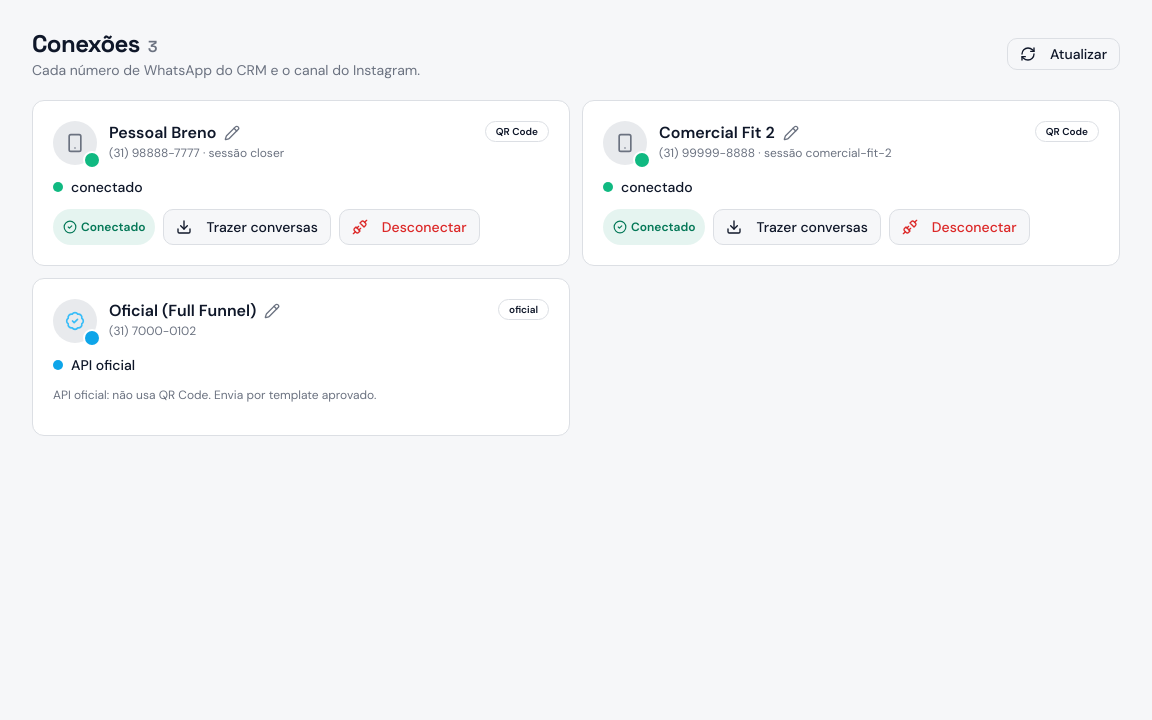
Test: tela Conexões: Desconectar › cancelar não chama nada
Click the button "Desconectar" below "(31) 99999-8888" at (959, 227), box [889,209,1030,245]
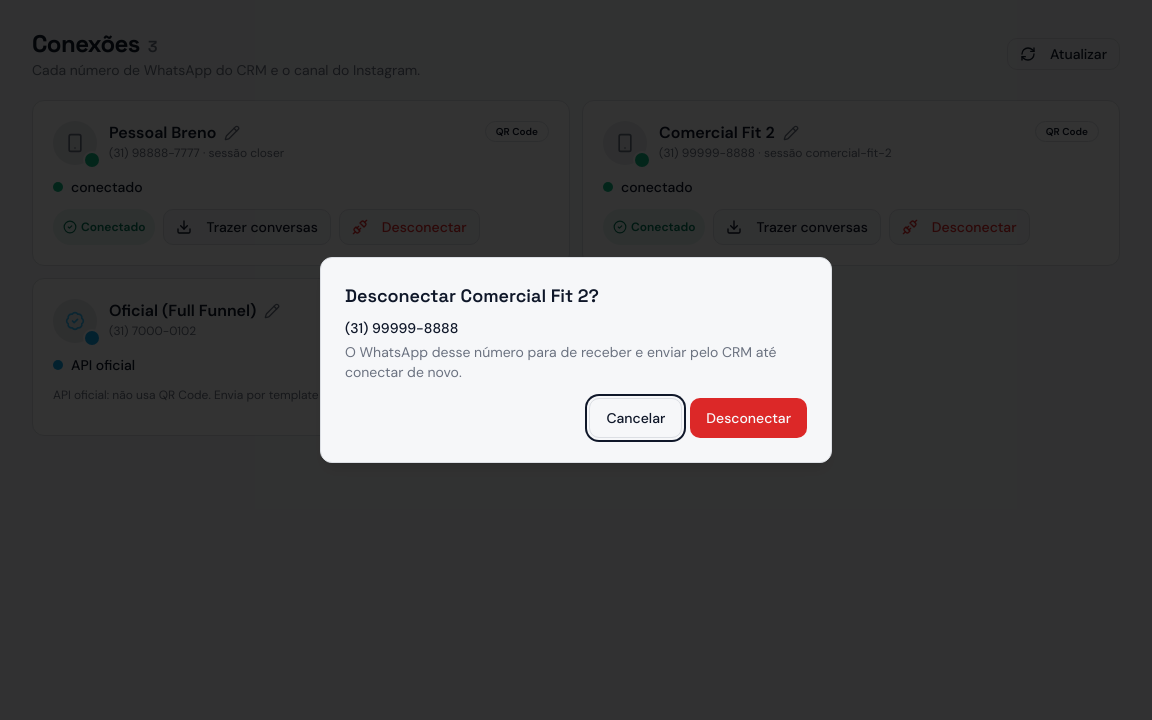
Click the button "Cancelar" at (636, 418), box [589,398,682,438]
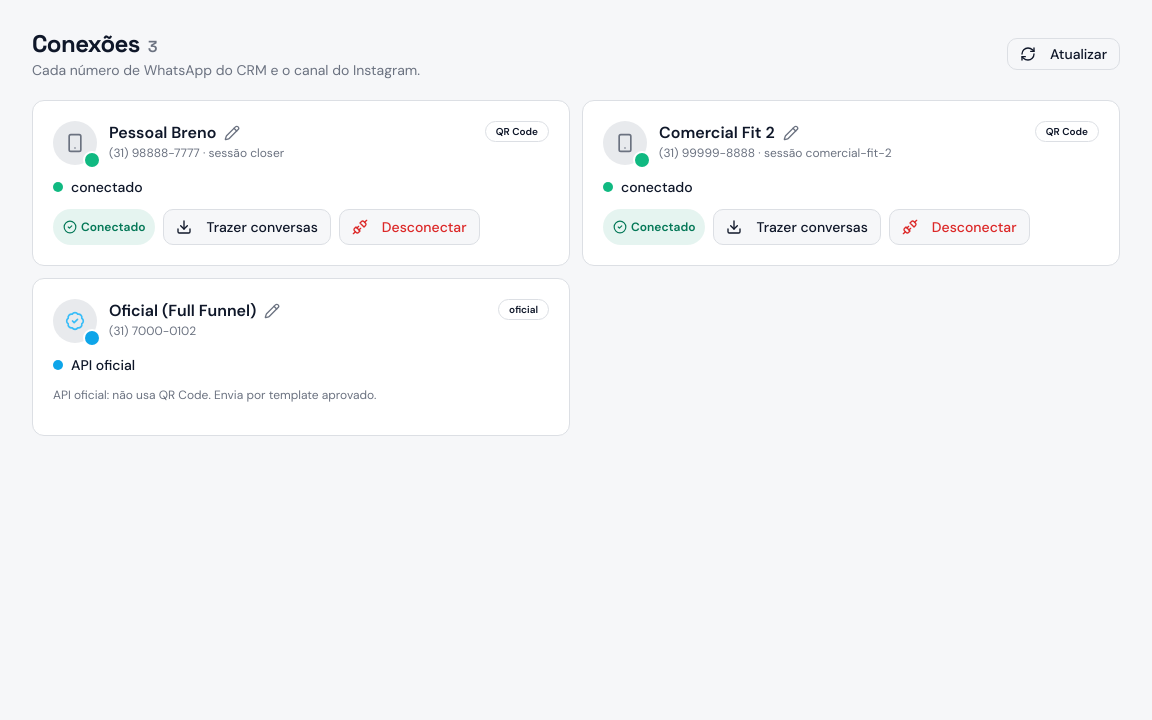
Check: the dialog with test id "confirmar-desconexao" is gone
